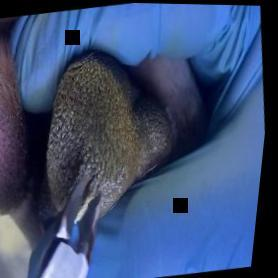keratosis: (25, 36, 195, 235)
